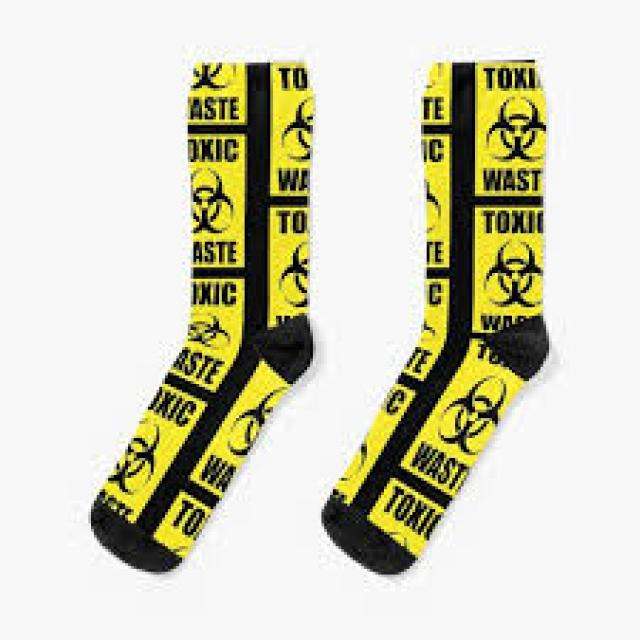Clothes -Biodegradable-: (87, 59, 317, 575), (323, 61, 551, 574)
